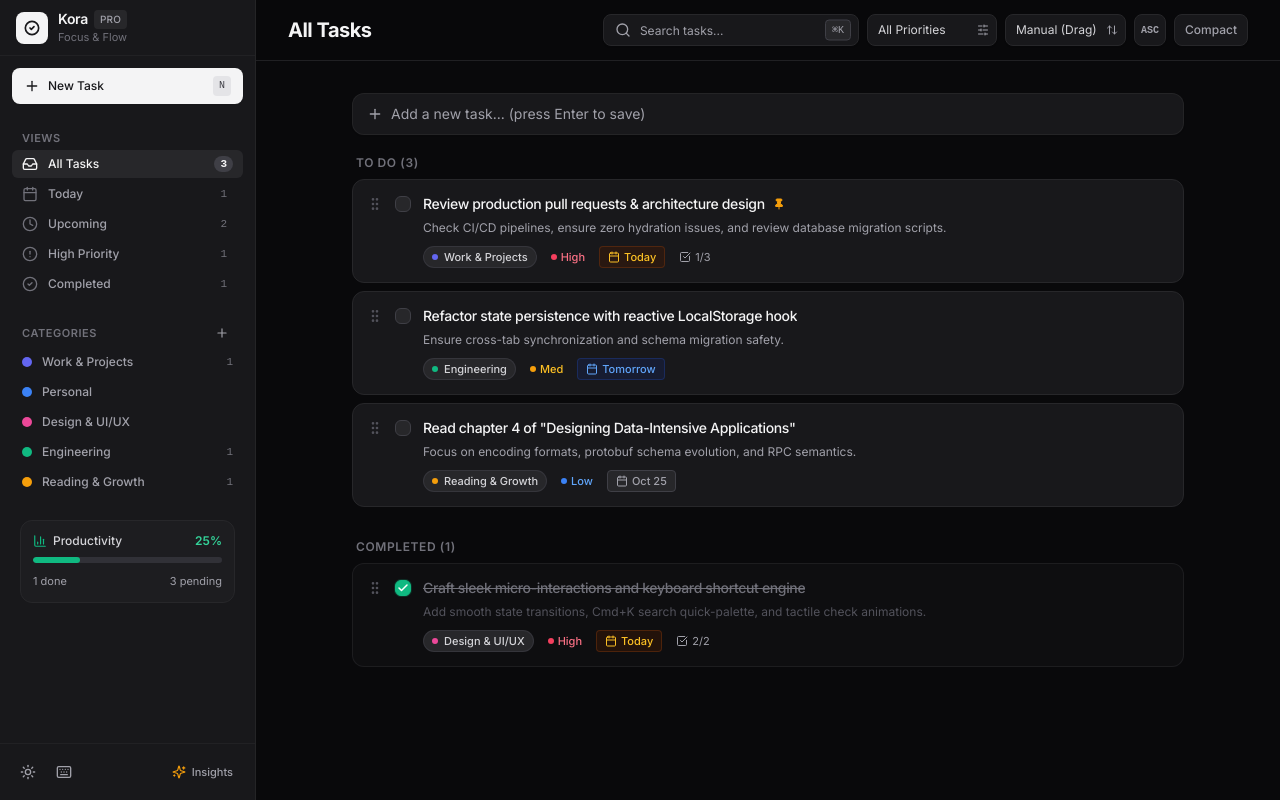
Test: Kora Modern Todo Application › allows creating a new task
Type "Write unit tests for application" into the field with placeholder "Add a new task... (press Enter to save)" at (782, 114), box [391, 104, 1173, 124]
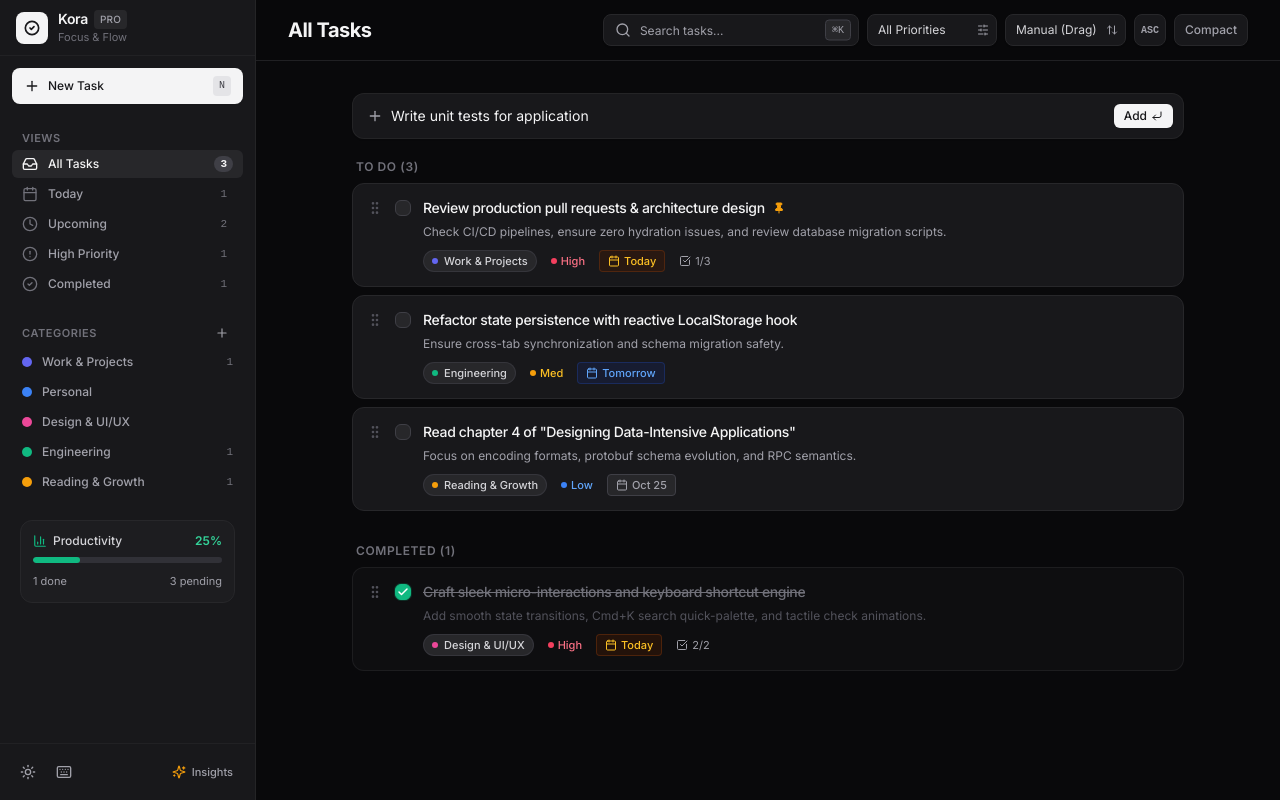
Submit the form with placeholder "Add a new task", box [352, 93, 1184, 139]
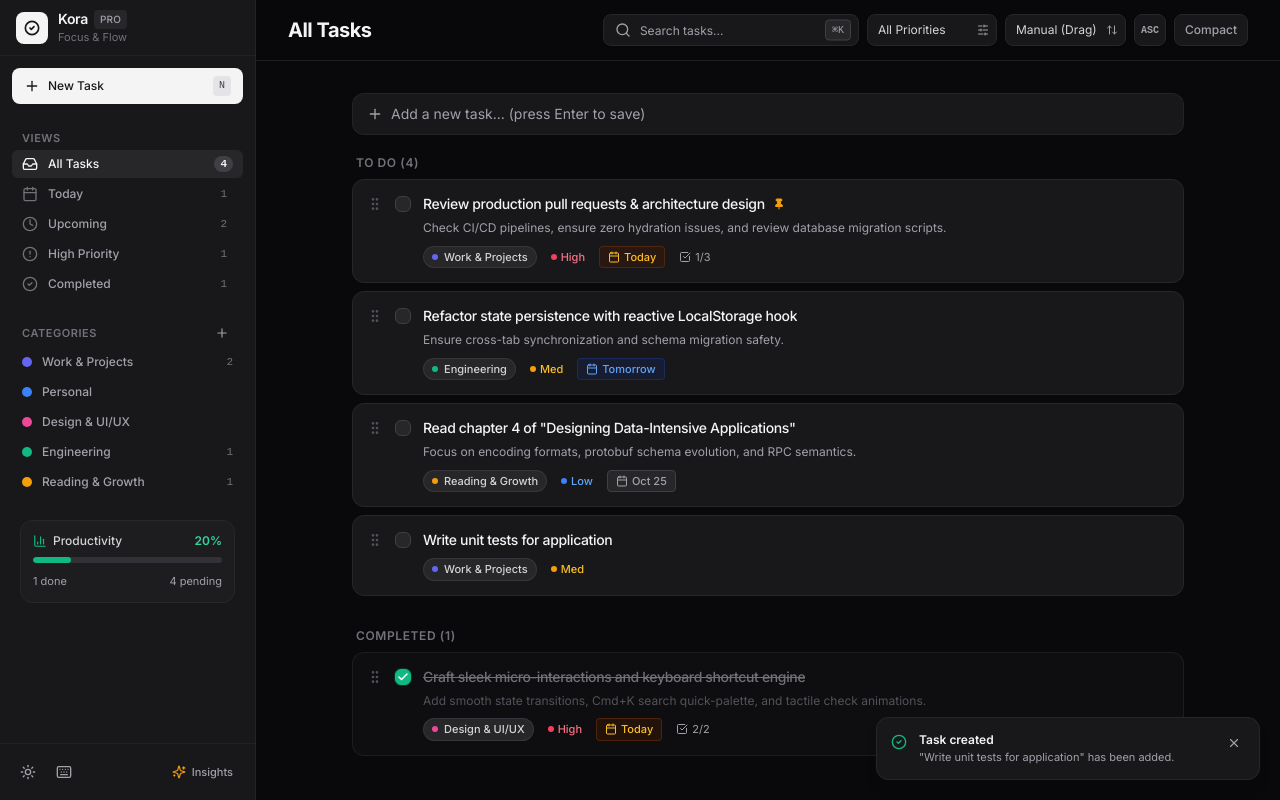
Check: the text "Write unit tests for application" is shown, box [423, 530, 612, 550]
